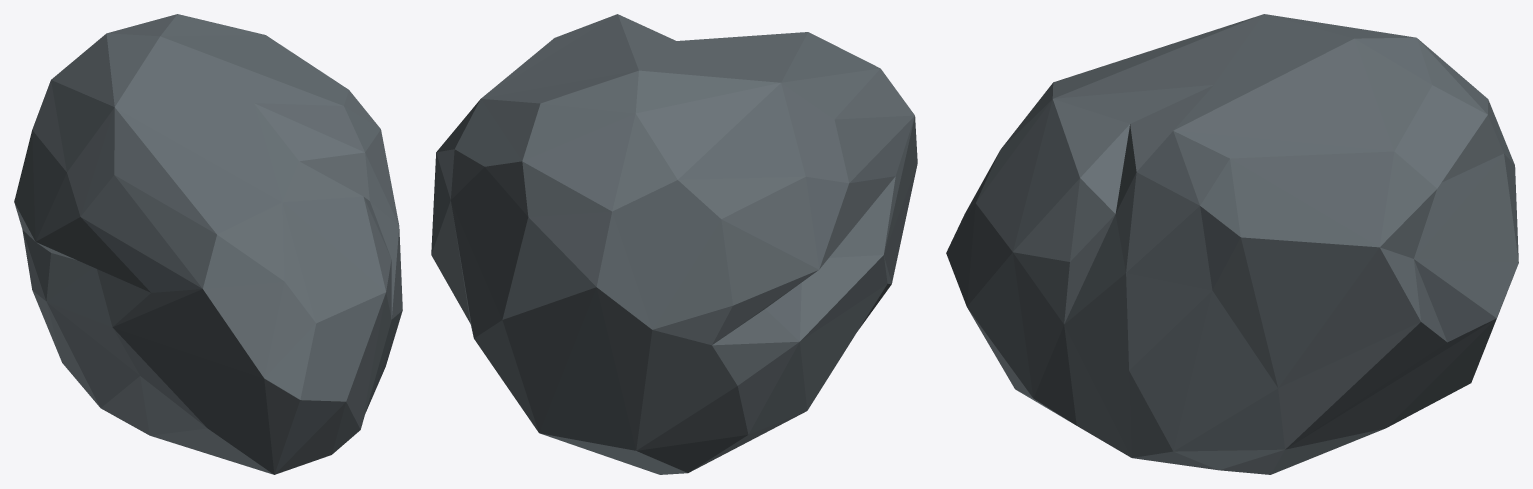
Rendered from Rock_2.fbx.
The picture shows the model from 3 angles, left to right: view 1: azimuth 30°, elevation 25°; view 2: azimuth 150°, elevation 25°; view 3: azimuth 270°, elevation 25°; orthographic projection. The views are drawn at different scales.
Visible parts, largest first — view 1: Group32189; view 2: Group32189; view 3: Group32189.
Part boxes in pixels (left/top/right/bottom): Group32189: left=14, top=14, right=402, bottom=474; Group32189: left=431, top=14, right=917, bottom=474; Group32189: left=946, top=14, right=1518, bottom=474.
Bounding box in the file's own units: 128 × 145 × 184.
